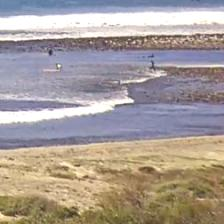surfer: (149, 60, 158, 72), (56, 63, 63, 69), (48, 49, 54, 55), (148, 54, 156, 58)
